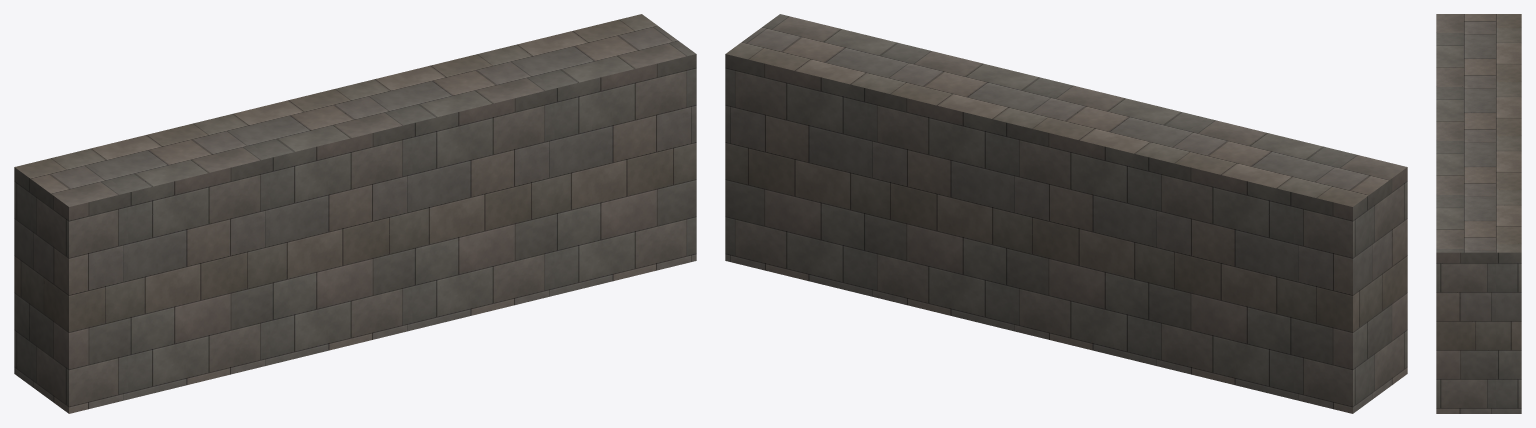
3 views of the same model, side by side, from view 1: azimuth 30°, elevation 25°; view 2: azimuth 150°, elevation 25°; view 3: azimuth 270°, elevation 25° (orthographic). The views are drawn at different scales.
Parts seen in each view (by area): view 1: 台基墙身; view 2: 台基墙身; view 3: 台基墙身.
Boxes of the visible parts, x1,y1,x2,y2 form: 台基墙身: (14, 14, 696, 413); 台基墙身: (725, 14, 1407, 413); 台基墙身: (1436, 14, 1521, 413).
Bounding box in the file's own units: 26.5 × 8.35 × 4.
Materials: 1 (1 with a texture image).
